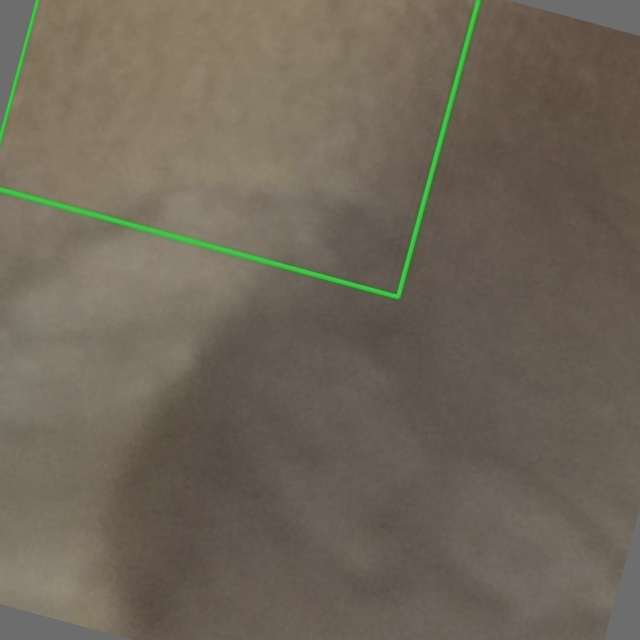Tinea Corporis: (0, 0, 478, 296)
